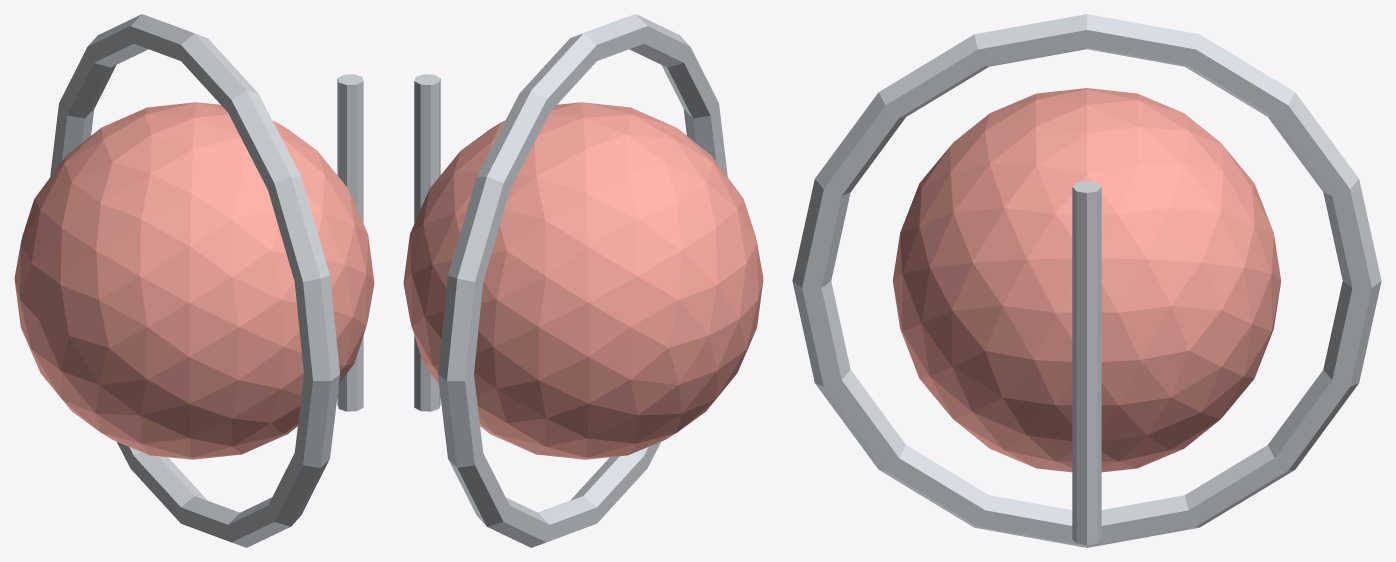
Rendered from bateria_4.glb.
3 renders of one model, left to right at view 1: azimuth 30°, elevation 25°; view 2: azimuth 150°, elevation 25°; view 3: azimuth 270°, elevation 25°, orthographic. The views are drawn at different scales.
Parts seen in each view (by area): view 1: nucleo, aro, jaula; view 2: nucleo, aro, jaula; view 3: nucleo, aro, jaula.
Boxes of the visible parts, x1,y1,x2,y2 form: nucleo: (14,102,374,459); aro: (50,14,339,547); jaula: (337,74,363,411); nucleo: (403,102,763,459); aro: (438,14,727,547); jaula: (414,74,440,411); nucleo: (893,88,1280,472); aro: (792,14,1381,547); jaula: (1072,181,1101,545).
Size of the model in its own units: 0.6157 by 0.9 by 0.9.
